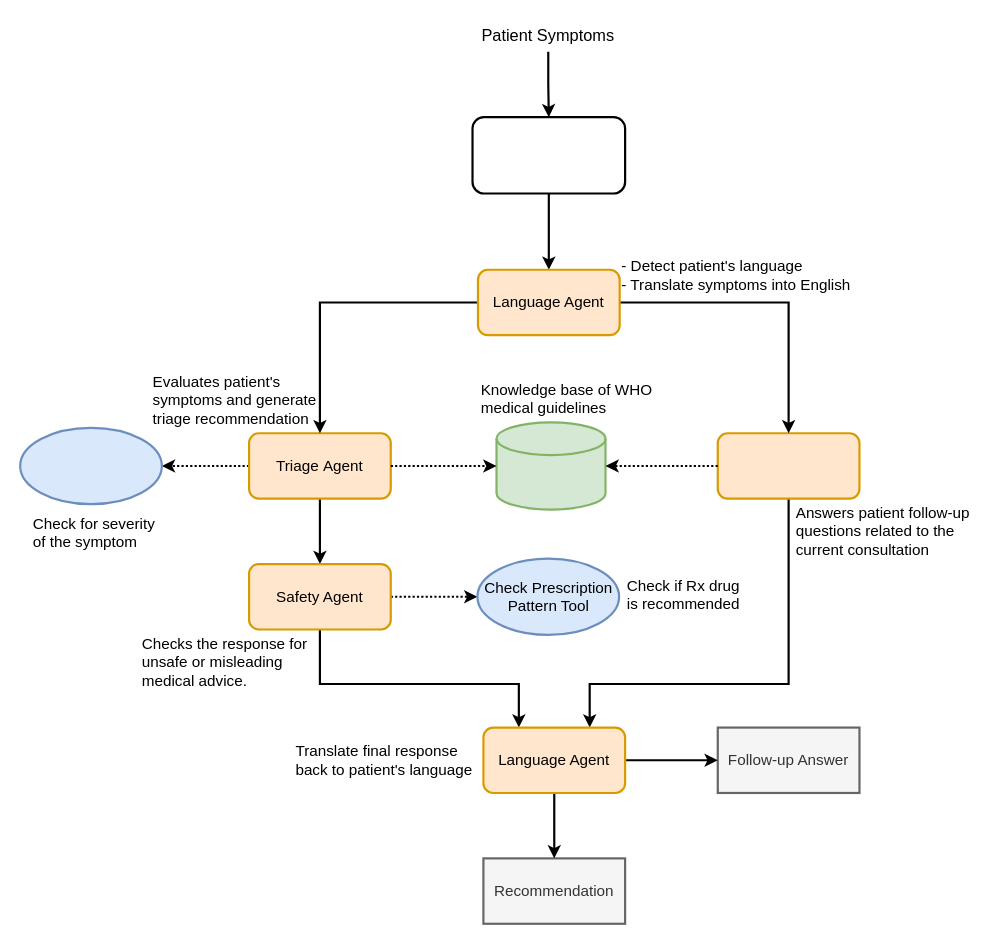
Some shapes in this 997 by 943 pixel diagram are drawn without their labels. The box of each missing label's shape, as (x1, y1, x2, y2) in pixels:
Agent Orchestrator: (471, 116, 626, 194)
Check Symptom Severity Tool: (19, 426, 162, 505)
Follow-up Agent: (716, 432, 860, 499)
RAG Source (ChromaDB): (495, 421, 606, 510)
